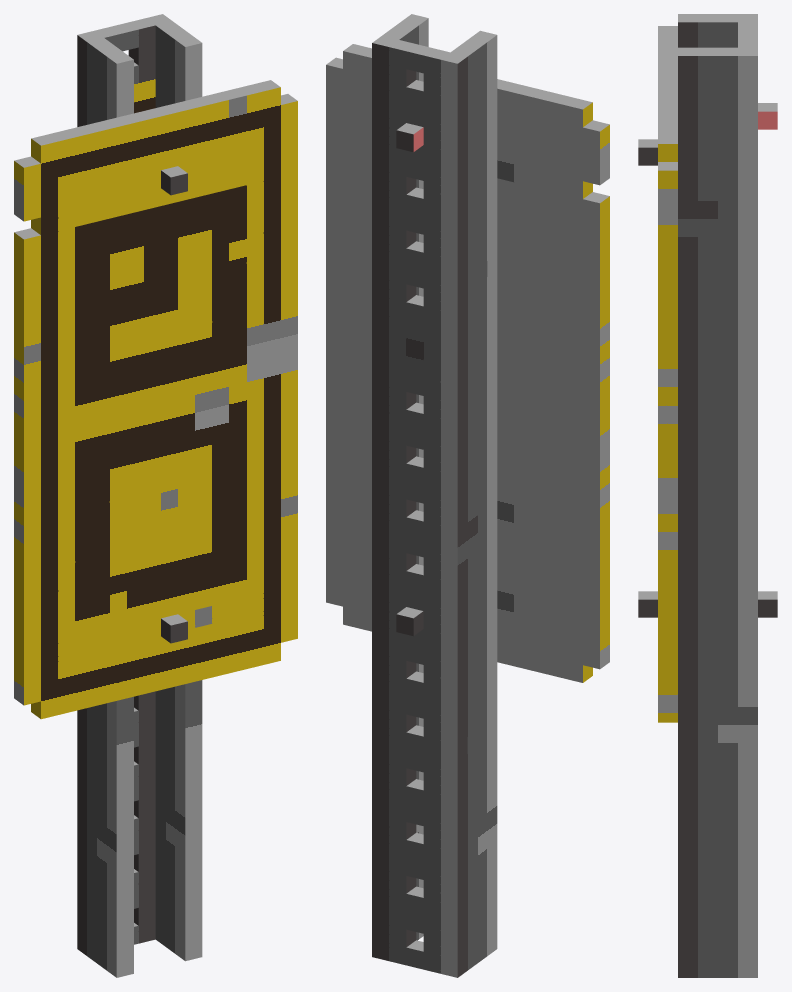
File: fifty_signao.fezao.glb
3 views of the same model, side by side, from view 1: azimuth 30°, elevation 25°; view 2: azimuth 150°, elevation 25°; view 3: azimuth 270°, elevation 25° (orthographic).
Visible parts, largest first — view 1: FIFTY_SIGNAO; view 2: FIFTY_SIGNAO; view 3: FIFTY_SIGNAO.
Part boxes in pixels (bbox=[...]): FIFTY_SIGNAO: bbox=[14, 14, 297, 977]; FIFTY_SIGNAO: bbox=[326, 14, 609, 977]; FIFTY_SIGNAO: bbox=[638, 14, 777, 977].
Bounding box in the file's own units: 1 × 3.19 × 0.4375.
1 material, 1 textured.
